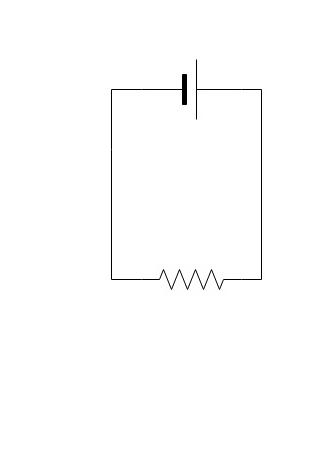resistor: (132, 249, 243, 315)
